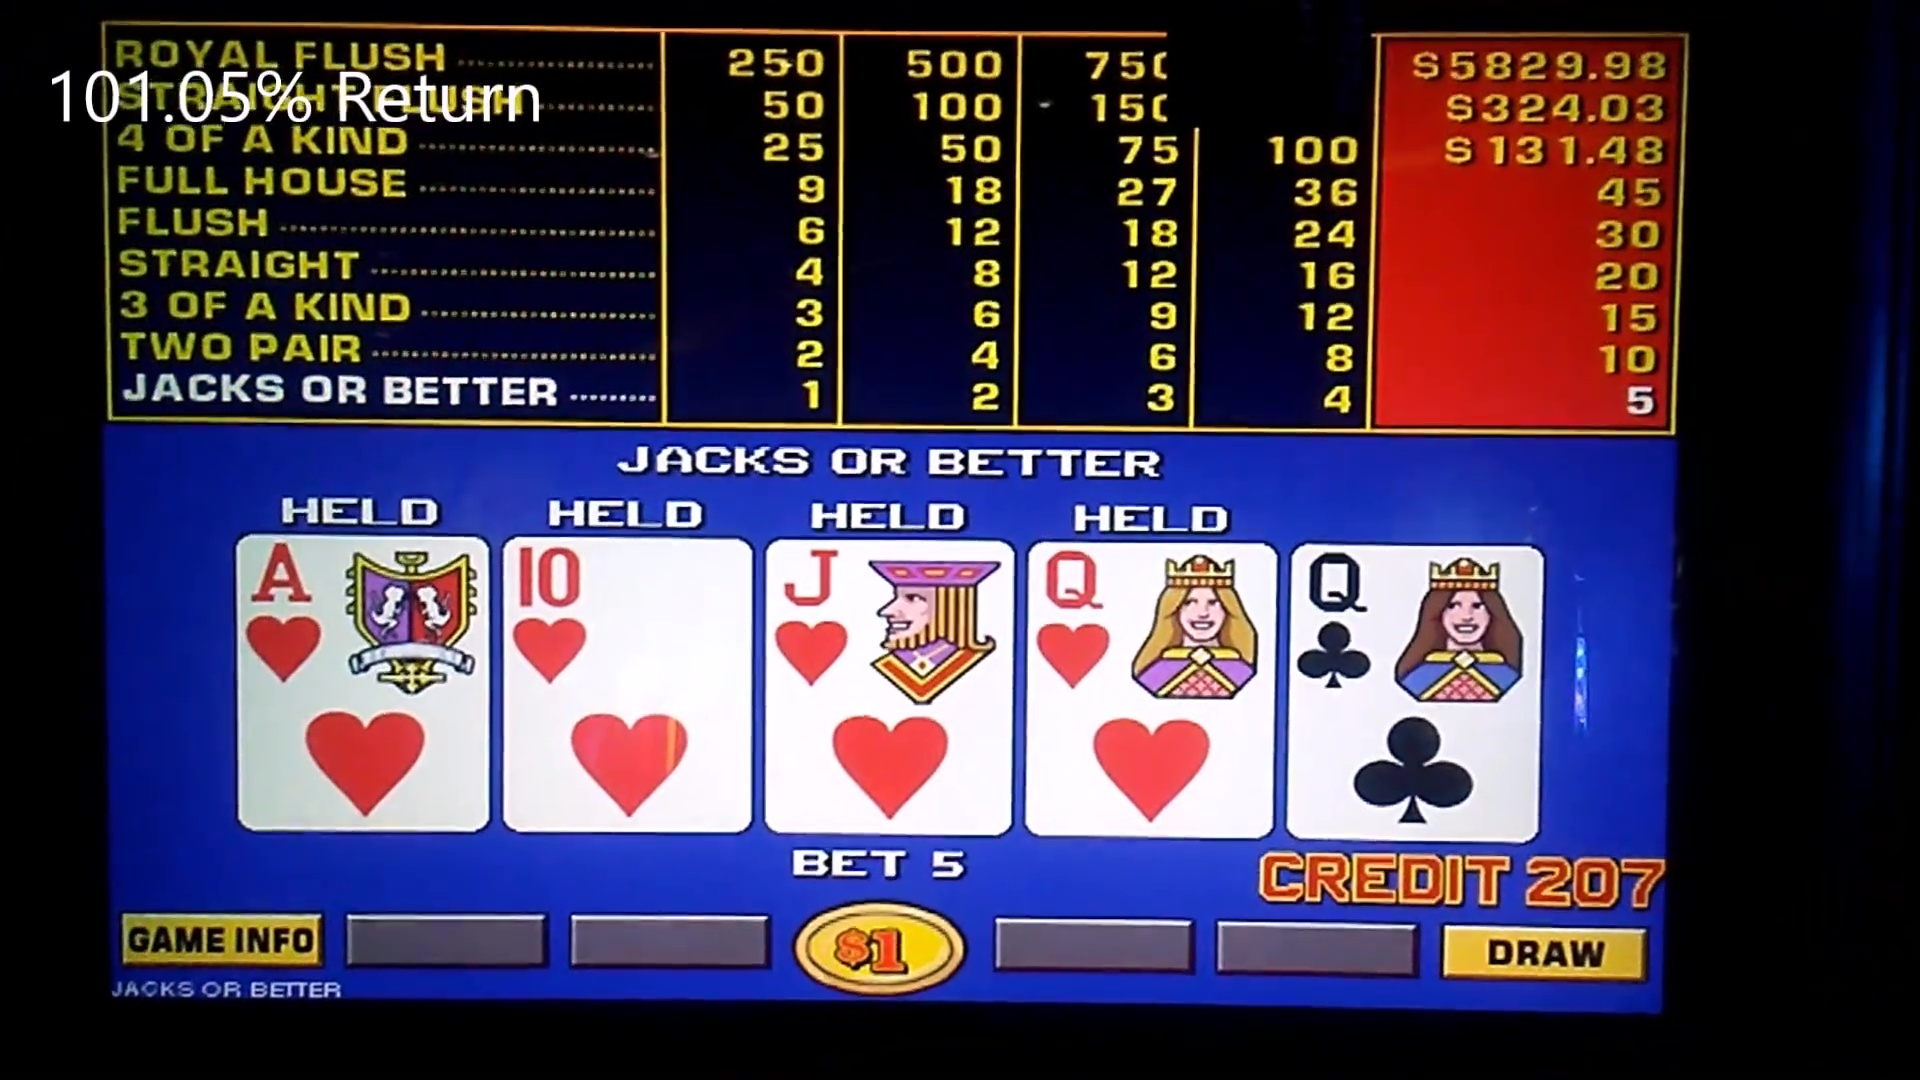AH: (243, 537, 484, 692)
JH: (764, 541, 1009, 694)
QC: (1291, 549, 1542, 702)
QH: (1027, 547, 1276, 698)
TH: (505, 541, 752, 691)
